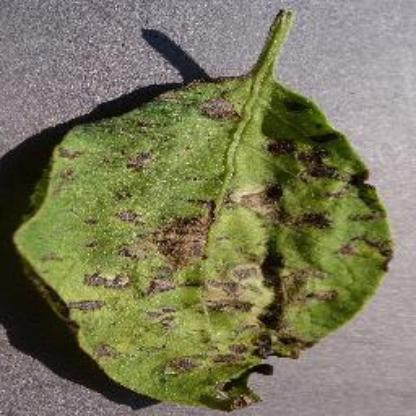Early-Blight: (12, 9, 394, 410)
